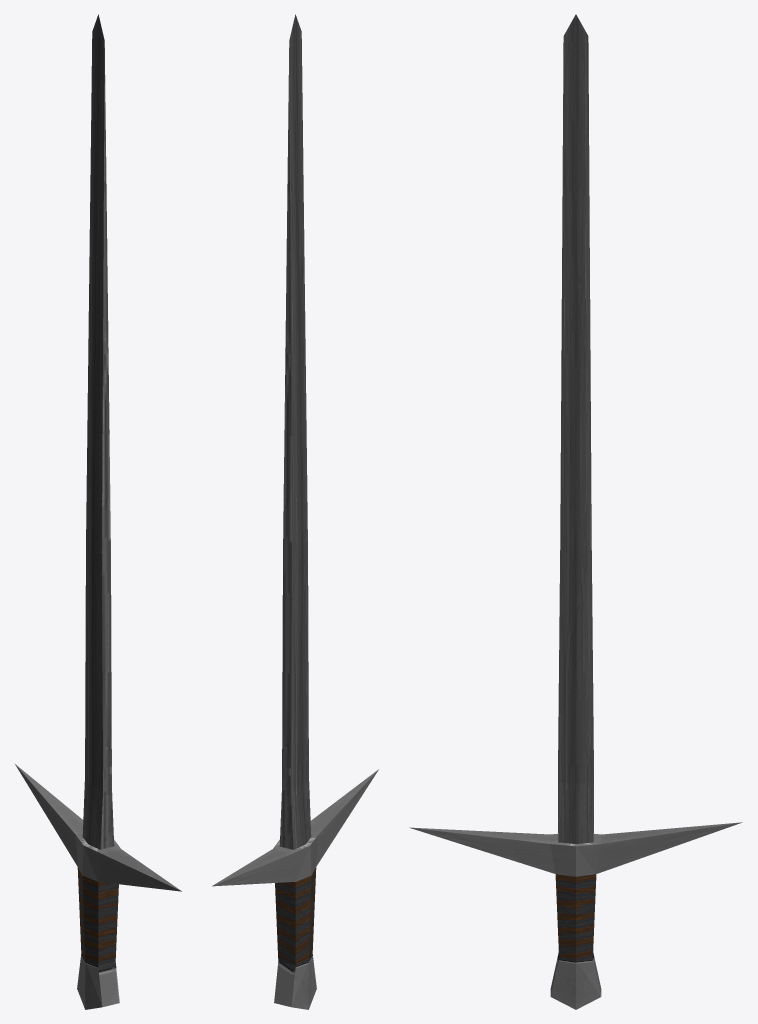
File: IronSword.fbx
3 renders of one model, left to right at view 1: azimuth 30°, elevation 25°; view 2: azimuth 150°, elevation 25°; view 3: azimuth 270°, elevation 25°, orthographic.
Visible parts, largest first — view 1: Cube; view 2: Cube; view 3: Cube.
Part boxes in pixels (box(x1,y1,x2,y2)): Cube: box(15, 14, 181, 1009); Cube: box(212, 14, 378, 1009); Cube: box(409, 14, 742, 1009).
Bounding box in the file's own units: 9.12 × 271 × 83.12.
